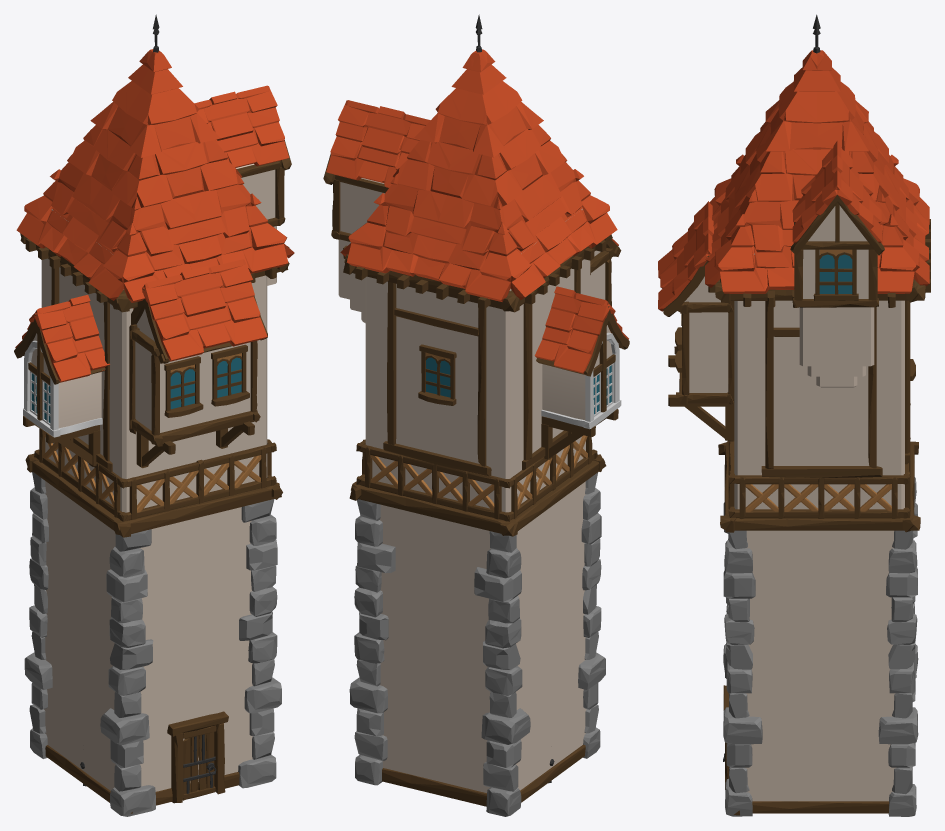
The model's file is SM_tower_01.fbx.
3 views of the same model, side by side, from view 1: azimuth 30°, elevation 25°; view 2: azimuth 150°, elevation 25°; view 3: azimuth 270°, elevation 25° (orthographic). The views are drawn at different scales.
Visible parts, largest first — view 1: Object32403; view 2: Object32403; view 3: Object32403.
Part boxes in pixels (<box>): Object32403: <box>14,14,294,816</box>; Object32403: <box>323,14,629,816</box>; Object32403: <box>658,14,930,816</box>.
Bounding box in the file's own units: 331 × 947 × 305.
